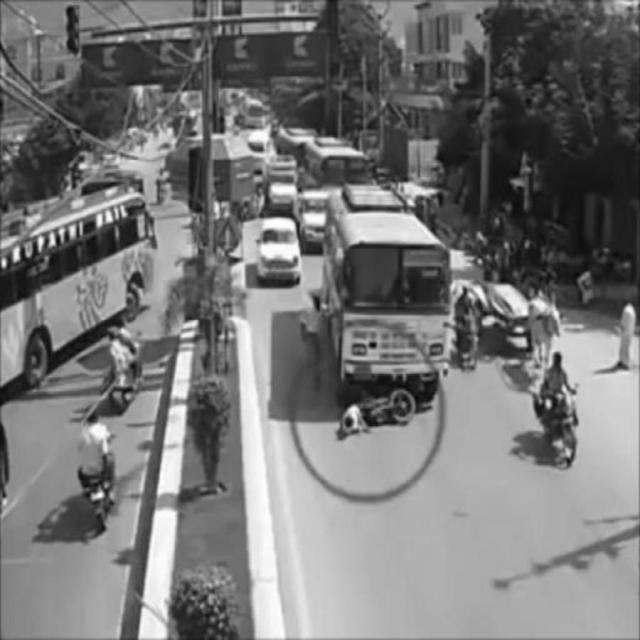accident: (322, 192, 450, 440)
vehicle: (3, 181, 178, 385), (533, 353, 579, 464), (79, 403, 115, 535), (106, 313, 147, 409), (259, 218, 301, 282), (453, 284, 483, 366)
